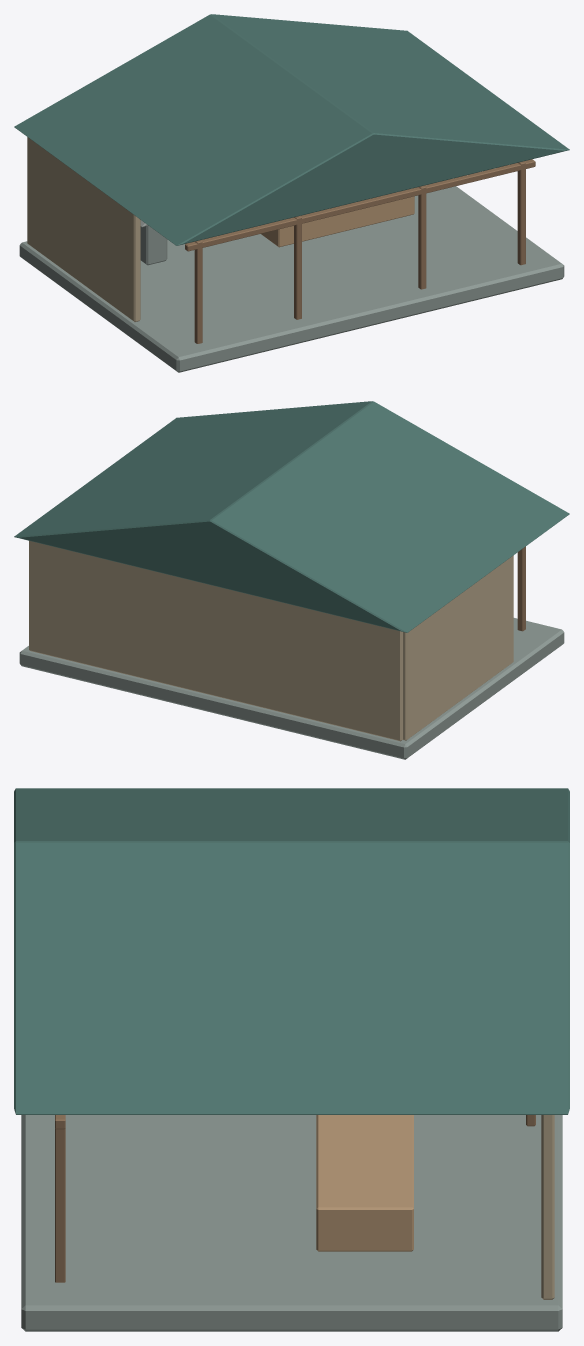
The model's file is LumenCraftWorkshop.glb.
3 renders of one model, top to bottom at view 1: azimuth 30°, elevation 25°; view 2: azimuth 150°, elevation 25°; view 3: azimuth 270°, elevation 25°, orthographic. The views are drawn at different scales.
Parts seen in each view (by area): view 1: LumenCraftWorkshop; view 2: LumenCraftWorkshop; view 3: LumenCraftWorkshop.
Boxes of the visible parts, <box> form: LumenCraftWorkshop: <box>14,14,569,372</box>; LumenCraftWorkshop: <box>14,401,569,759</box>; LumenCraftWorkshop: <box>14,788,569,1331</box>.
Bounding box in the file's own units: 31.65 × 14.98 × 22.8.
